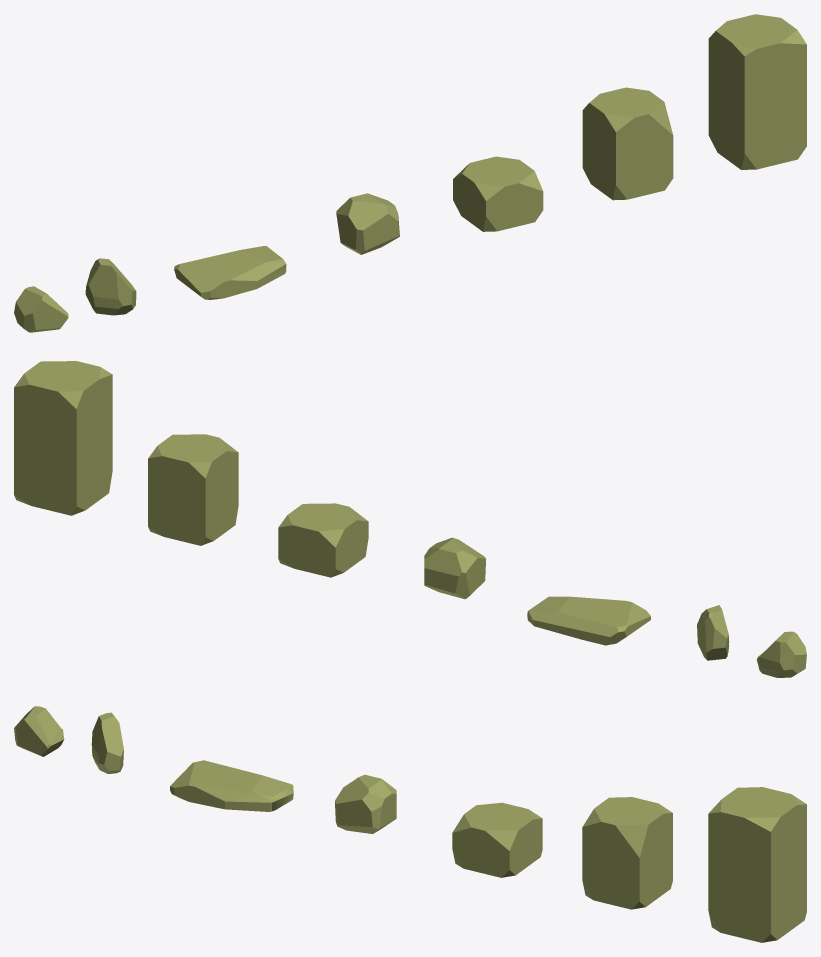
File: Ruin Stone Set 01.fbx
3 renders of one model, top to bottom at view 1: azimuth 30°, elevation 25°; view 2: azimuth 150°, elevation 25°; view 3: azimuth 330°, elevation 25°, orthographic.
Parts seen in each view (by area): view 1: Ruin Stone 07, Ruin Stone 06, Ruin Stone 05, Ruin Stone 03, Ruin Stone 04, Ruin Stone 02, Ruin Stone 01; view 2: Ruin Stone 07, Ruin Stone 06, Ruin Stone 05, Ruin Stone 03, Ruin Stone 04, Ruin Stone 01, Ruin Stone 02; view 3: Ruin Stone 07, Ruin Stone 06, Ruin Stone 05, Ruin Stone 03, Ruin Stone 04, Ruin Stone 01, Ruin Stone 02.
Boxes of the visible parts, x1,y1,x2,y2 form: Ruin Stone 07: (708,14,806,169); Ruin Stone 06: (582,87,673,200); Ruin Stone 05: (453,156,543,231); Ruin Stone 03: (174,246,286,299); Ruin Stone 04: (336,193,399,254); Ruin Stone 02: (85,258,136,315); Ruin Stone 01: (14,286,68,332); Ruin Stone 07: (14,361,112,515); Ruin Stone 06: (148,434,238,545); Ruin Stone 05: (278,503,368,577); Ruin Stone 03: (527,596,650,645); Ruin Stone 04: (424,537,485,599); Ruin Stone 01: (756,631,806,677); Ruin Stone 02: (697,605,729,660); Ruin Stone 07: (708,787,806,942); Ruin Stone 06: (582,797,672,909); Ruin Stone 05: (452,802,542,877); Ruin Stone 03: (170,760,293,811); Ruin Stone 04: (335,774,396,833); Ruin Stone 01: (14,706,64,756); Ruin Stone 02: (91,712,123,773).
Size of the model in its own units: 11.85 by 1.78 by 0.9609.
